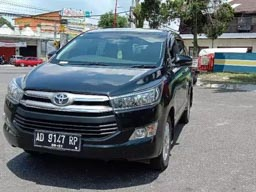plat: (34, 132, 80, 143)
